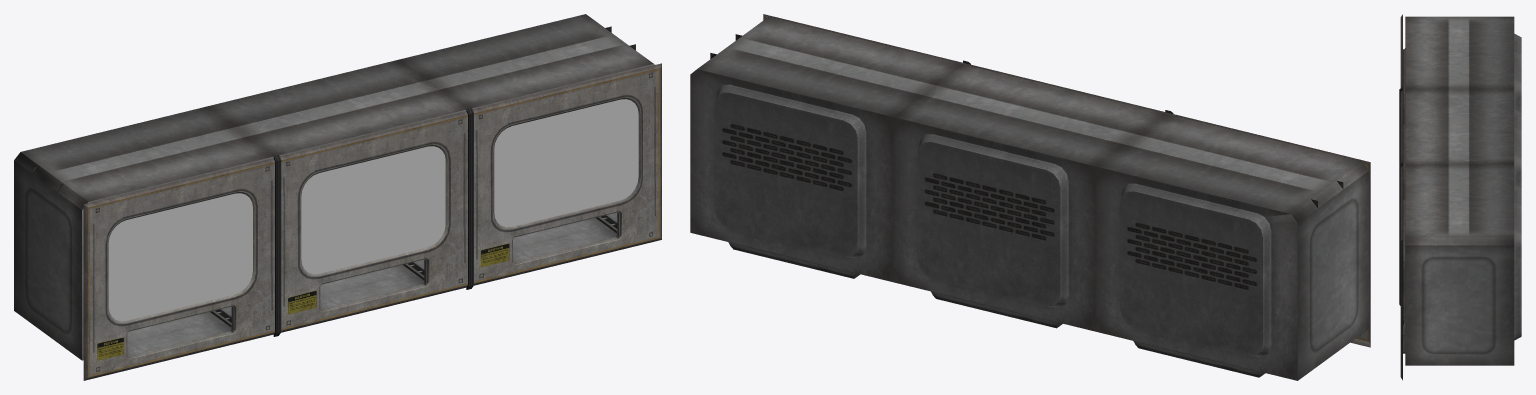
Rendered from 03_02_biomech_test_incubator.dae.
3 views of the same model, side by side, from view 1: azimuth 30°, elevation 25°; view 2: azimuth 150°, elevation 25°; view 3: azimuth 270°, elevation 25° (orthographic). The views are drawn at different scales.
Parts seen in each view (by area): view 1: polySurface143, polySurface154; view 2: polySurface143; view 3: polySurface143.
Boxes of the visible parts, box(x1,y1,x2,y2) form: polySurface143: box(14, 14, 661, 380); polySurface154: box(108, 99, 638, 321); polySurface143: box(690, 14, 1370, 380); polySurface143: box(1399, 14, 1521, 380).
Size of the model in its own units: 6 by 1.8 by 1.38.
